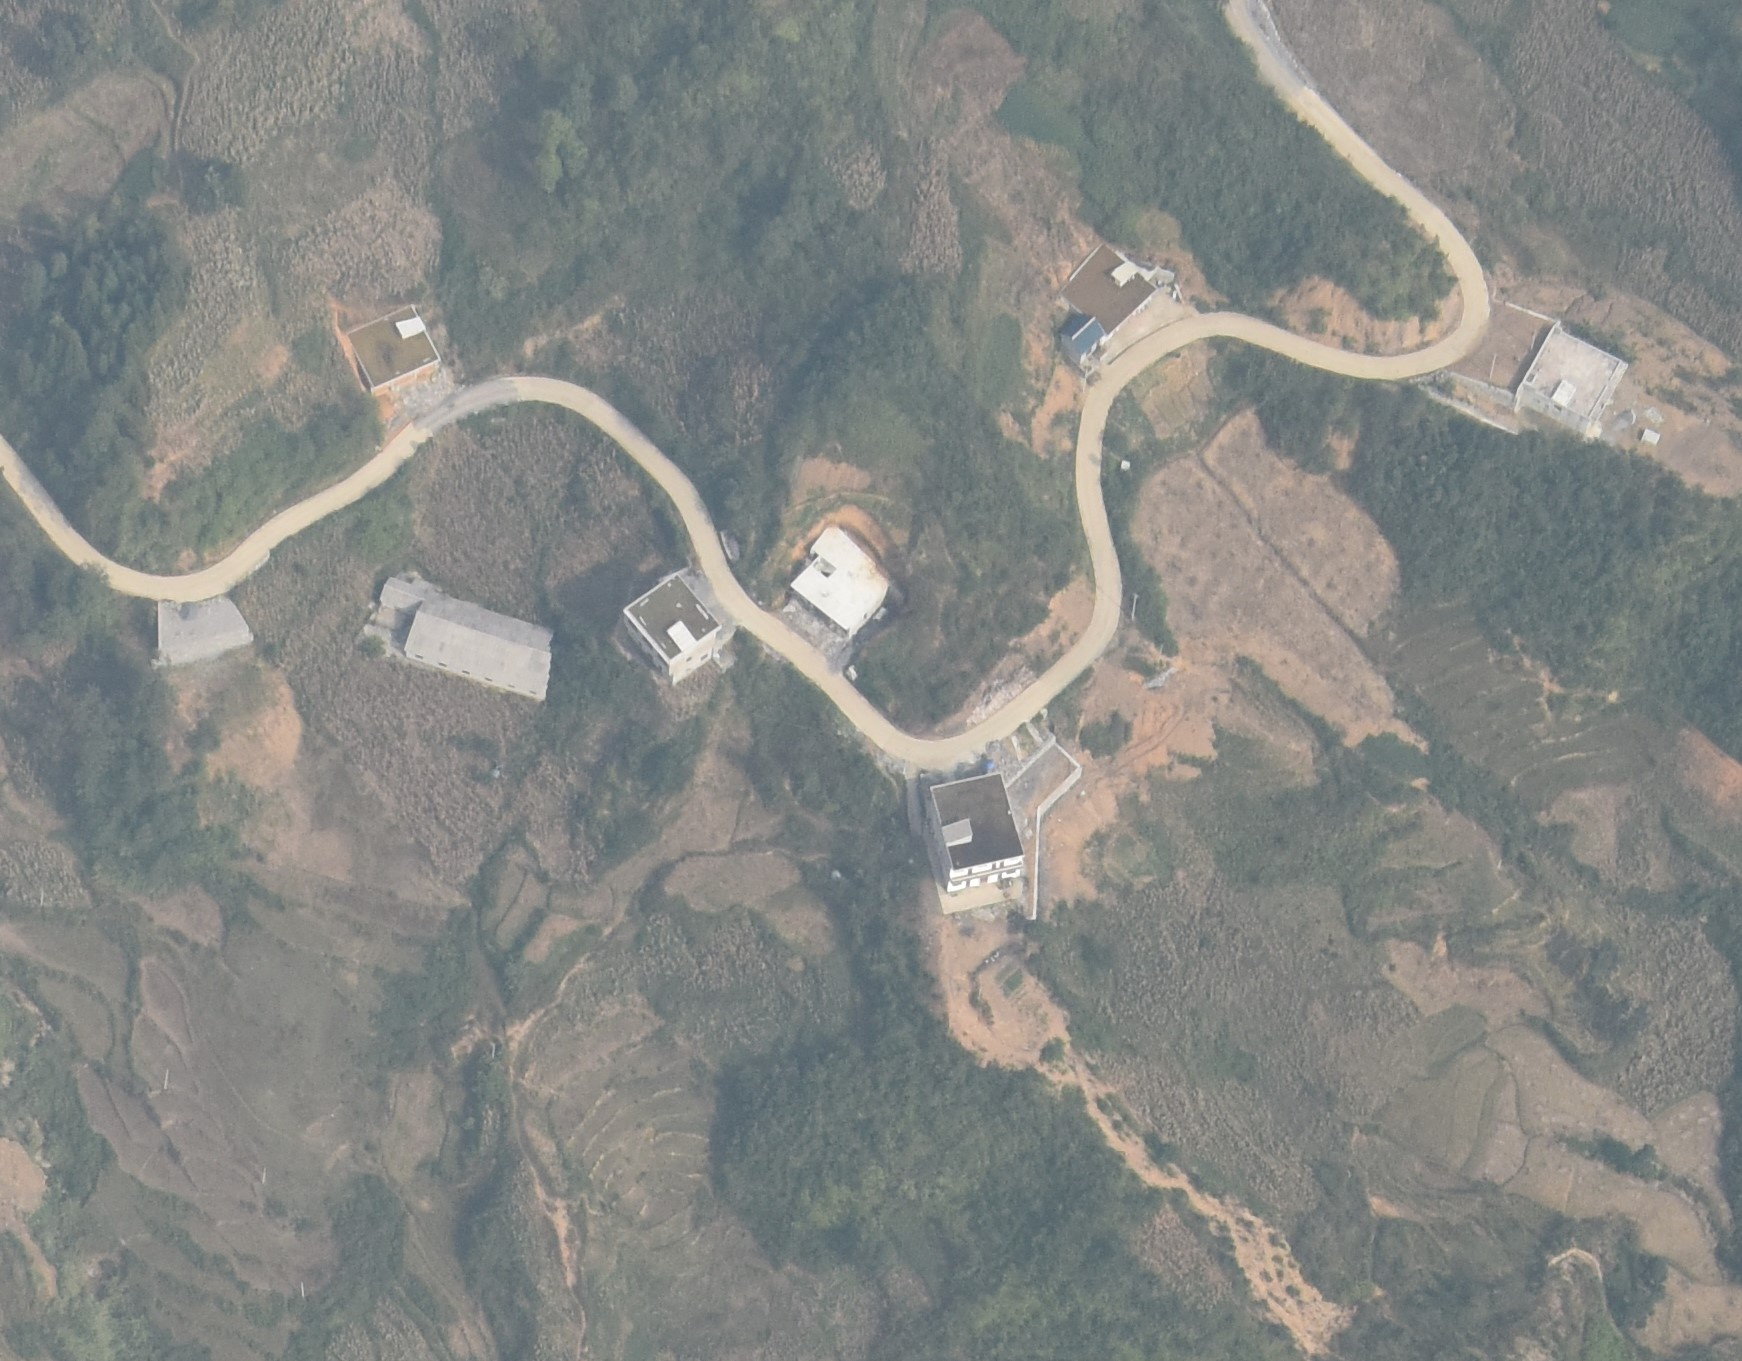building: (404, 594, 556, 701), (920, 770, 1022, 892), (1526, 324, 1629, 437), (624, 572, 720, 684), (790, 522, 888, 628), (346, 295, 443, 389), (1060, 243, 1157, 336), (153, 598, 255, 666), (1058, 314, 1104, 365), (378, 575, 427, 615)
cable-tower: (1487, 350, 1497, 382), (1530, 329, 1538, 352), (1131, 594, 1138, 619)
